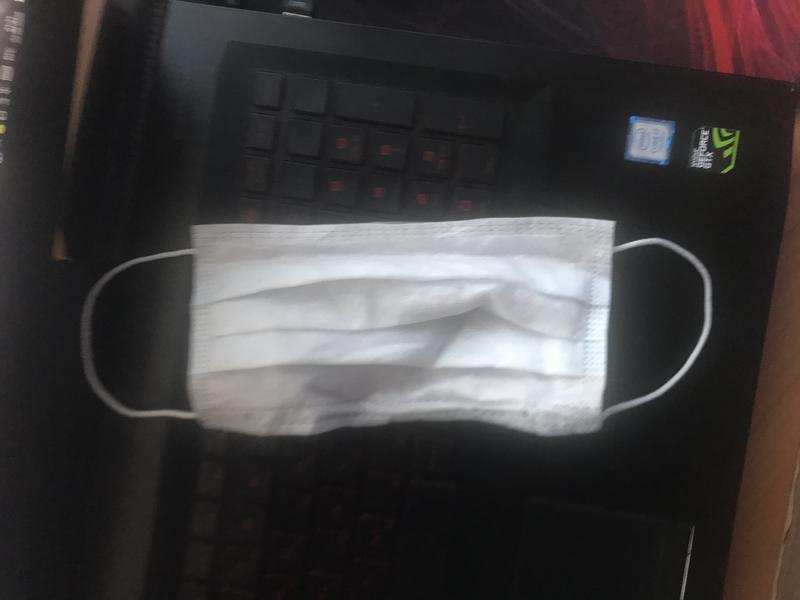medical_mask: (82, 219, 712, 442)
